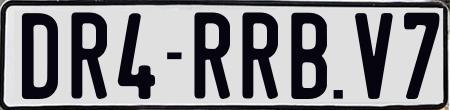4: (115, 12, 155, 101)
7: (401, 11, 433, 103)
B: (290, 10, 330, 100)
D: (22, 10, 59, 97)
R: (239, 9, 279, 102), (192, 12, 231, 99), (70, 9, 107, 100)
V: (354, 11, 394, 98)
